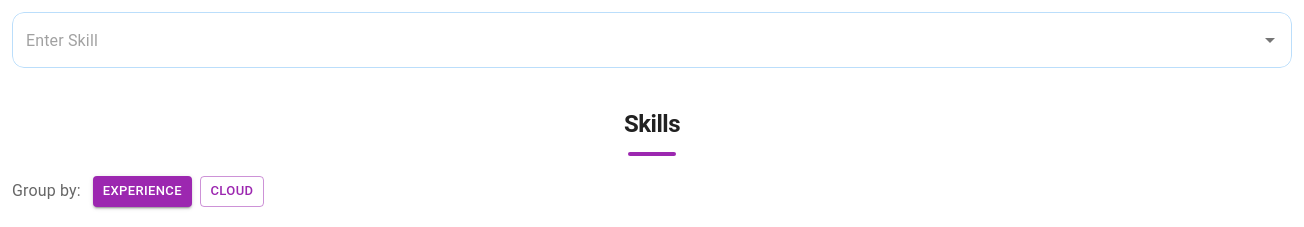
Test case: SkillsSection Component › Filter Type Dropdown › should close dropdown menu when menu item is selected
The width and height of the screenshot is (1304, 227).
Click the button with test id "ArrowDropDownIcon": {"x": 1270, "y": 40} [1250,20,1290,60]
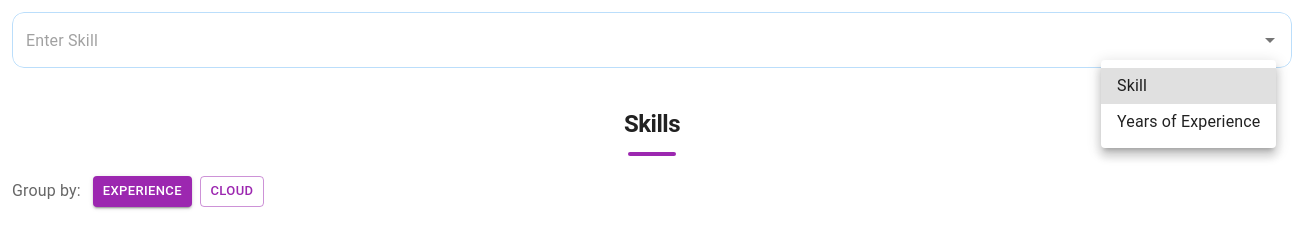
Expected: the menu item "Skill" is shown
# Selecting a menu item should close the menu
Click the menu item "Skill": {"x": 1189, "y": 86} [1101,68,1276,104]
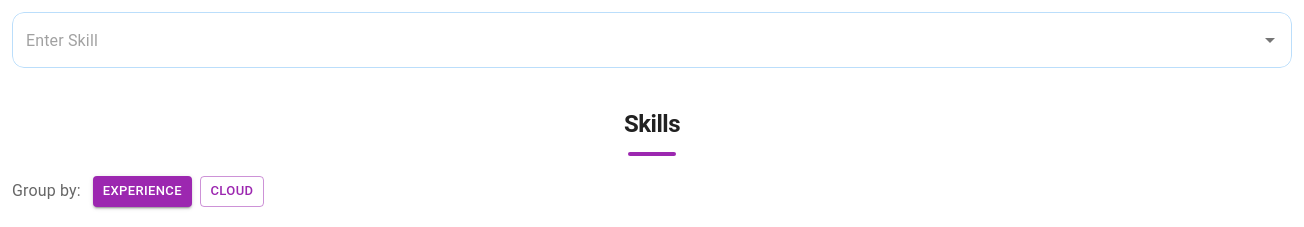
Expected: the menu item "Years of Experience" is gone
